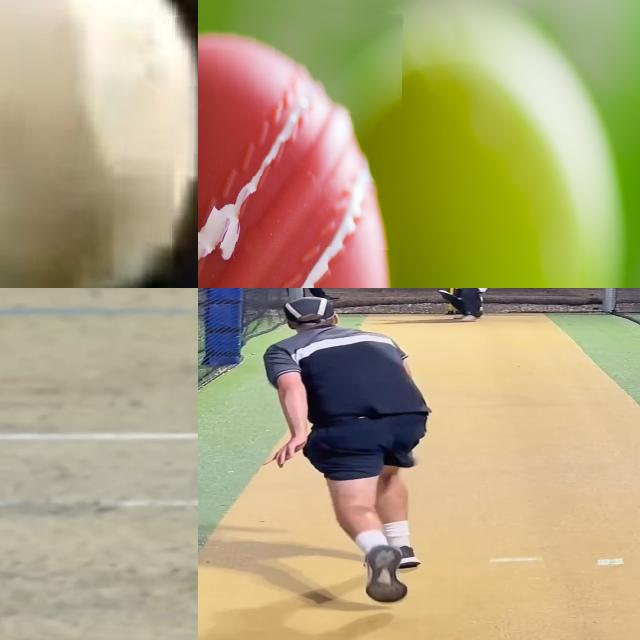Cricket ball: (198, 0, 403, 288), (0, 0, 198, 288)
